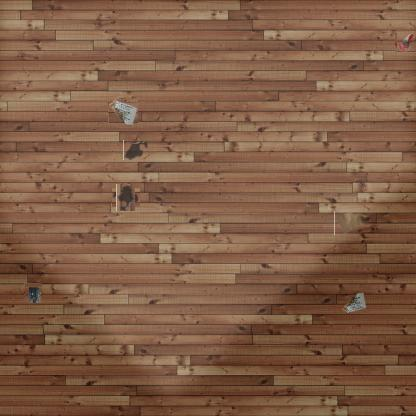dirty: (334, 211, 367, 235), (108, 99, 138, 125), (342, 290, 366, 312), (396, 31, 416, 53), (24, 284, 42, 304)
liquid: (114, 186, 138, 209), (123, 140, 148, 160)
